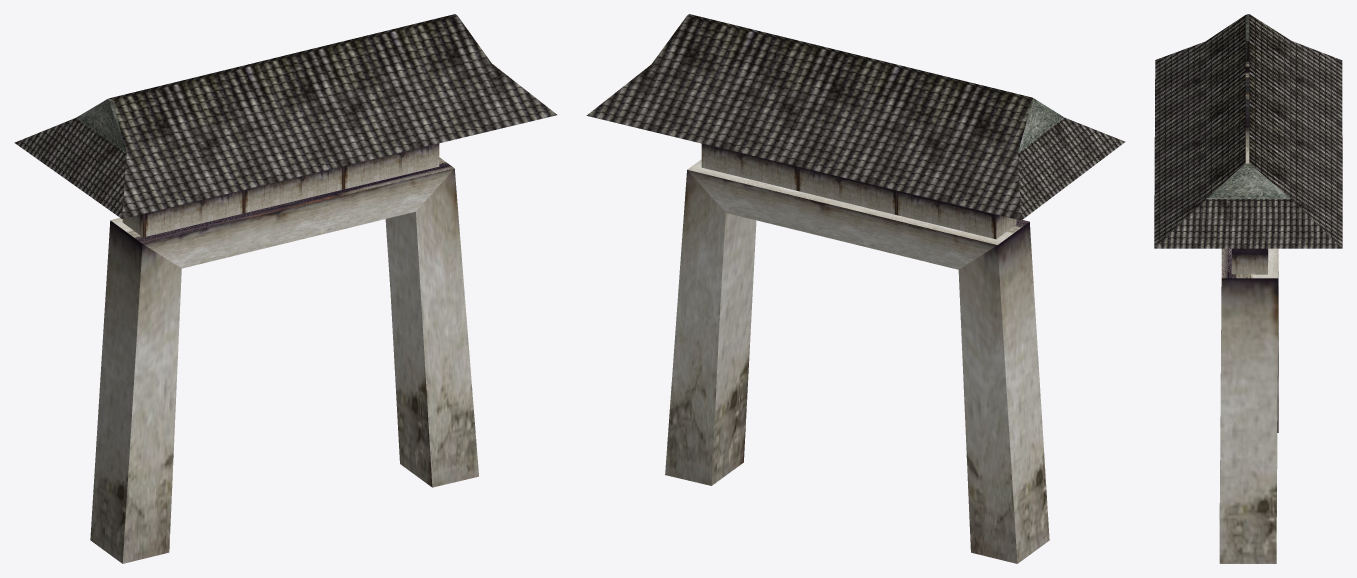
Rendered from ian1641.obj.
The picture shows the model from 3 angles, left to right: view 1: azimuth 30°, elevation 25°; view 2: azimuth 150°, elevation 25°; view 3: azimuth 270°, elevation 25°; orthographic projection. The views are drawn at different scales.
Parts seen in each view (by area): view 1: ian1641; view 2: ian1641; view 3: ian1641.
Boxes of the visible parts, left/top/right/bottom form: ian1641: left=14, top=14, right=556, bottom=563; ian1641: left=586, top=14, right=1125, bottom=563; ian1641: left=1154, top=14, right=1342, bottom=563.
Size of the model in its own units: 140 by 139 by 59.52.
